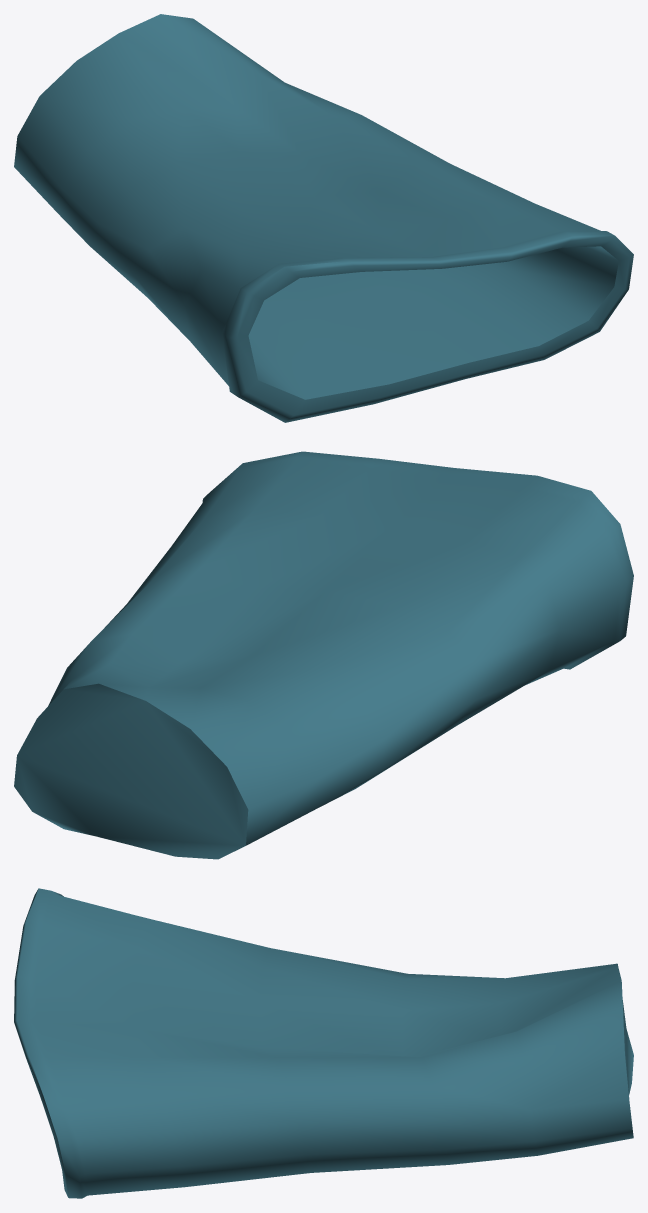
File: SM_SmallTrashkit_Cup_003.fbx
3 views of the same model, one above another, from view 1: azimuth 30°, elevation 25°; view 2: azimuth 150°, elevation 25°; view 3: azimuth 270°, elevation 25° (orthographic). The views are drawn at different scales.
Parts seen in each view (by area): view 1: SM_SmallTrashkit_Cup_003; view 2: SM_SmallTrashkit_Cup_003; view 3: SM_SmallTrashkit_Cup_003.
Part boxes in pixels (x1,y1,x2,y2): SM_SmallTrashkit_Cup_003: (14, 14, 633, 422); SM_SmallTrashkit_Cup_003: (14, 451, 633, 859); SM_SmallTrashkit_Cup_003: (14, 888, 633, 1198).
Size of the model in its own units: 13.39 by 5.39 by 18.12.
